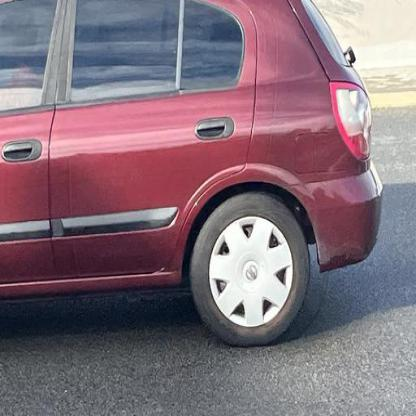Tire: (190, 191, 310, 347)
